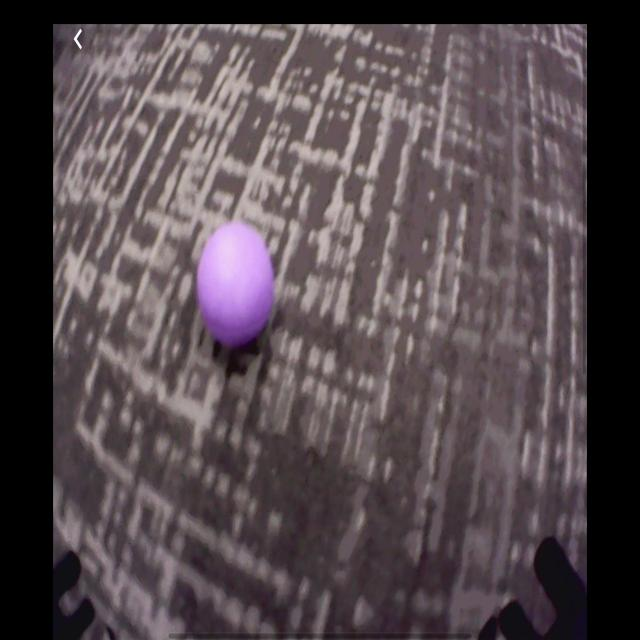ball: (197, 225, 276, 343)
